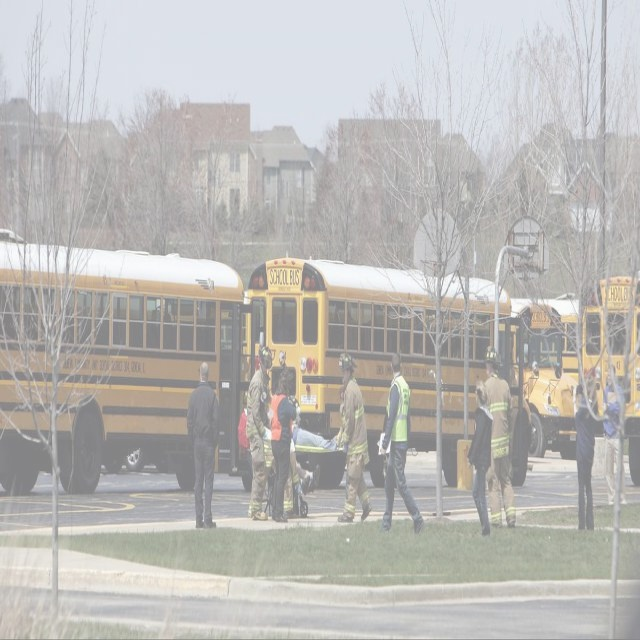pessoa: (375, 350, 427, 538), (184, 358, 222, 532), (336, 350, 374, 524), (482, 344, 517, 530), (266, 368, 302, 526), (244, 344, 274, 522), (466, 378, 494, 538), (268, 368, 298, 514), (602, 364, 628, 507), (574, 396, 596, 534), (291, 421, 344, 454)
